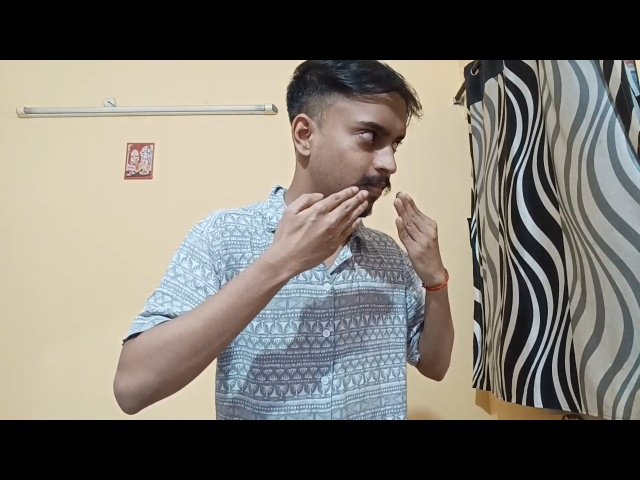Thank you: (230, 160, 467, 377)
